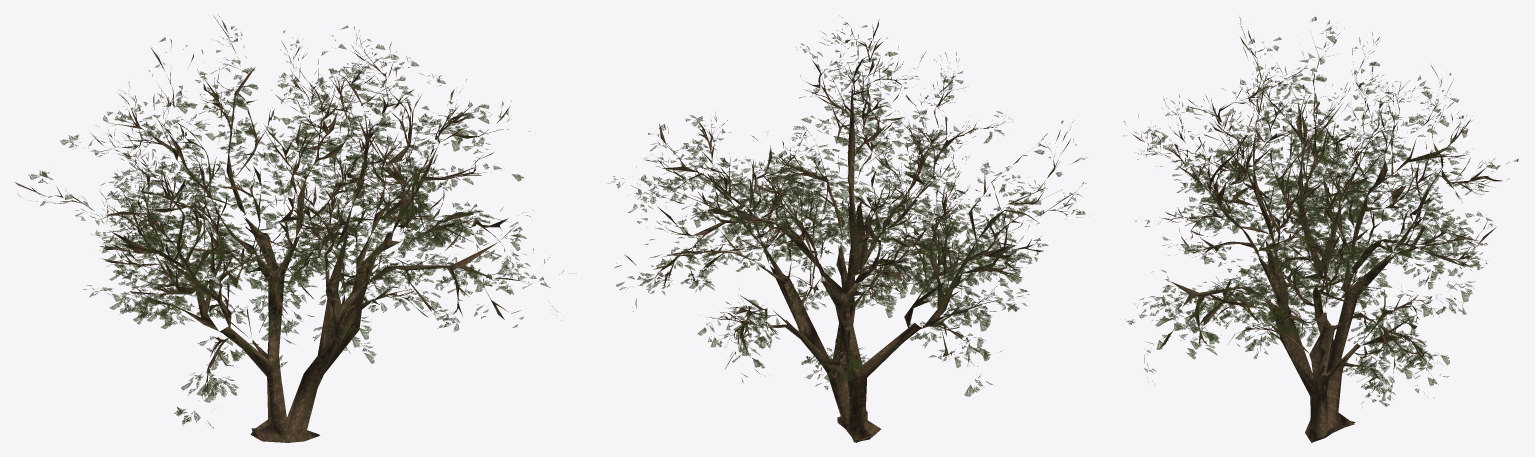
Rendered from far.glb.
The picture shows the model from 3 angles, left to right: view 1: azimuth 30°, elevation 25°; view 2: azimuth 150°, elevation 25°; view 3: azimuth 270°, elevation 25°; orthographic projection. The views are drawn at different scales.
Visible parts, largest first — view 1: jacaranda_tree_LOD1; view 2: jacaranda_tree_LOD1; view 3: jacaranda_tree_LOD1.
Part boxes in pixels (<box>): jacaranda_tree_LOD1: <box>15,14,576,442</box>; jacaranda_tree_LOD1: <box>607,17,1086,442</box>; jacaranda_tree_LOD1: <box>1124,16,1518,442</box>.
Size of the model in its own units: 24.06 by 19.31 by 18.24.
3 materials, 3 textured.
